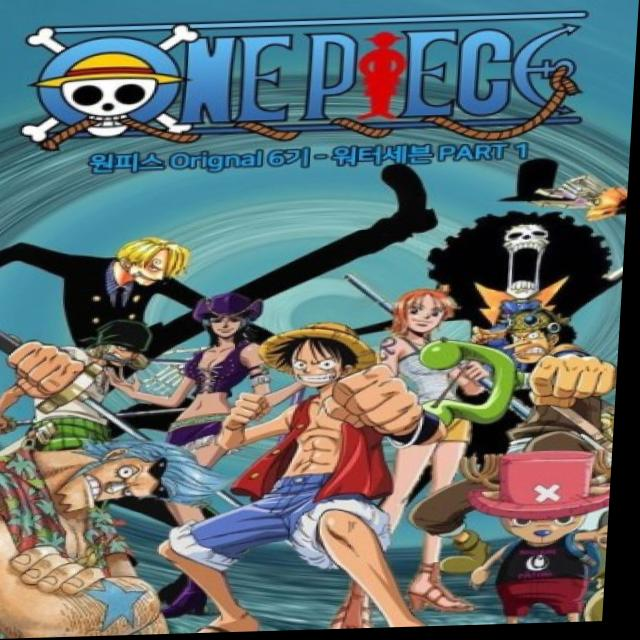Blook: (462, 219, 590, 308)
Chyopa: (458, 447, 618, 628)
Franky: (50, 442, 243, 511)
Luffy: (274, 320, 389, 393)
Nami: (389, 286, 476, 340)
NicoRobin: (189, 292, 279, 350)
Sangdi: (109, 231, 197, 294)
Usopp: (501, 309, 590, 367)
Zoro: (80, 316, 167, 374)
